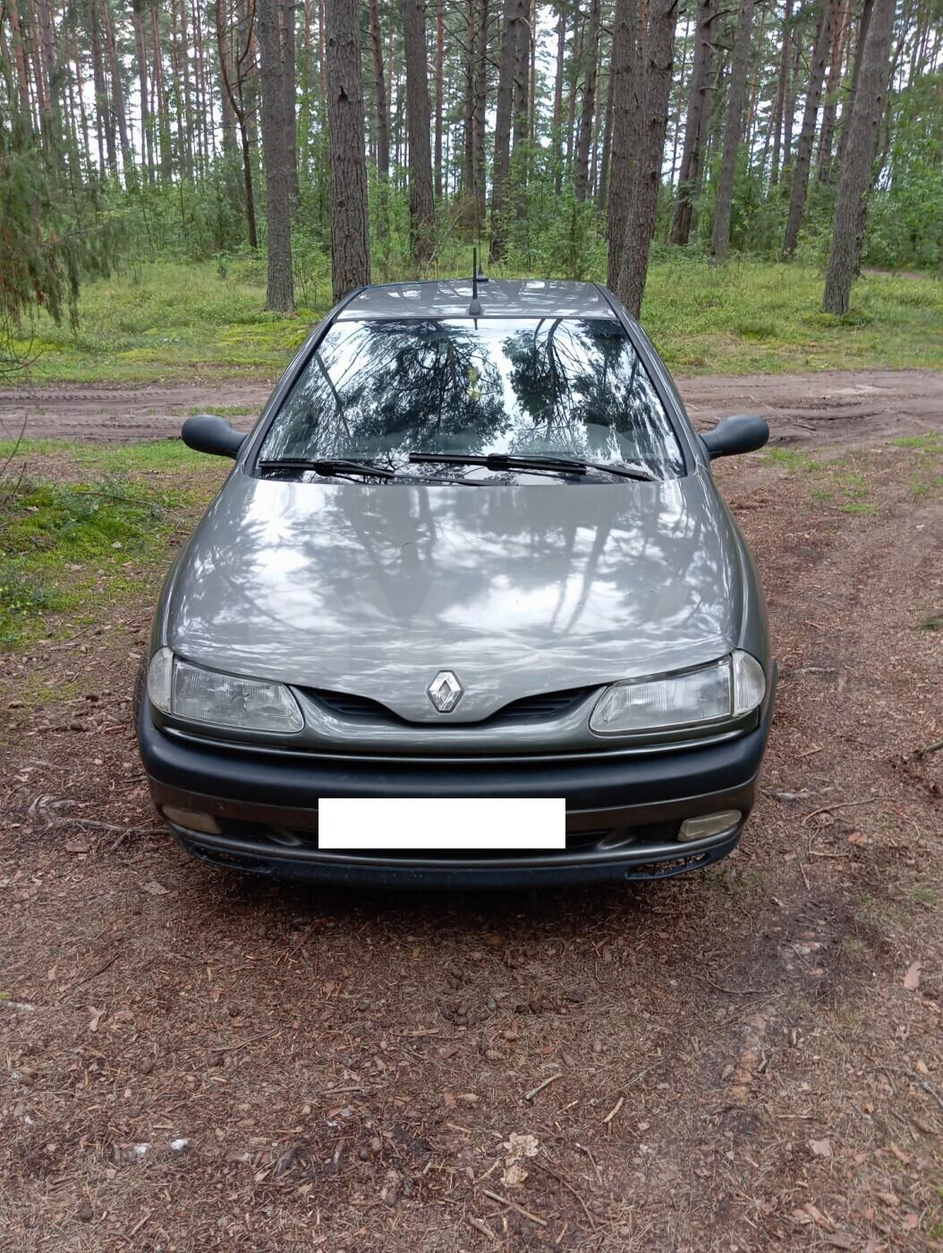Lahuna_1993-1999: (122, 263, 780, 900)
